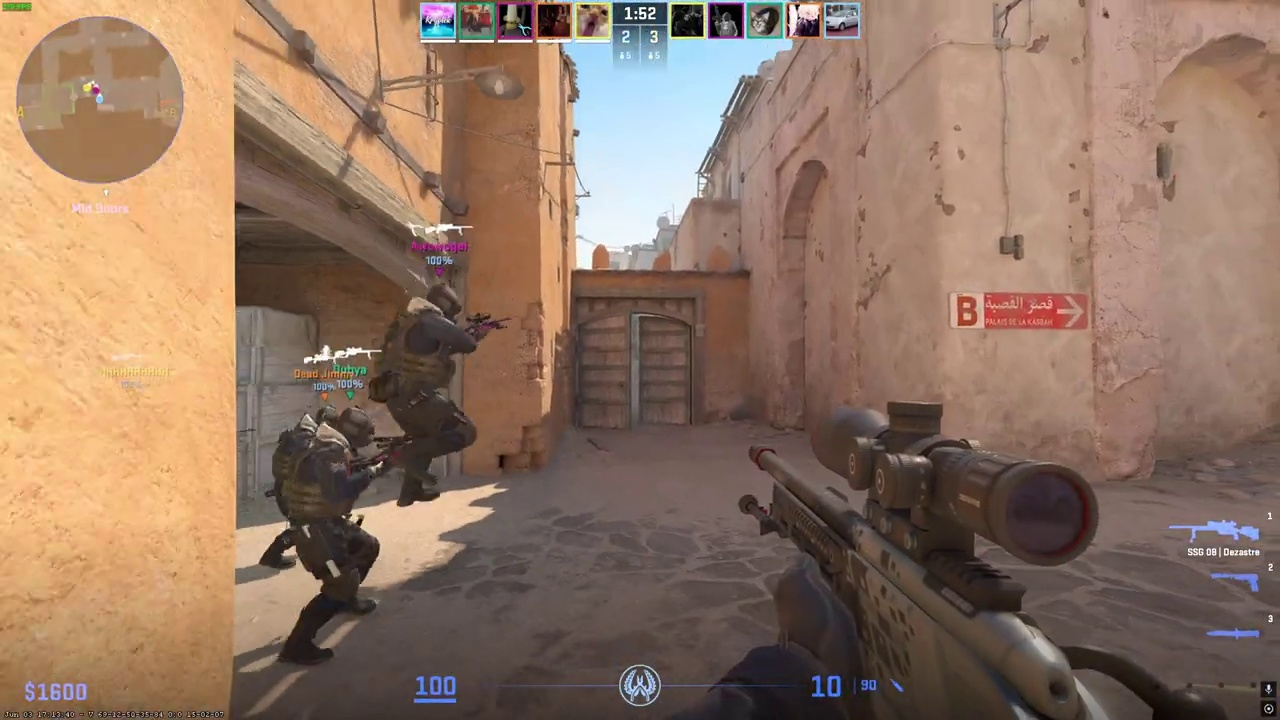CT: (264, 407, 390, 664), (375, 284, 480, 506)
